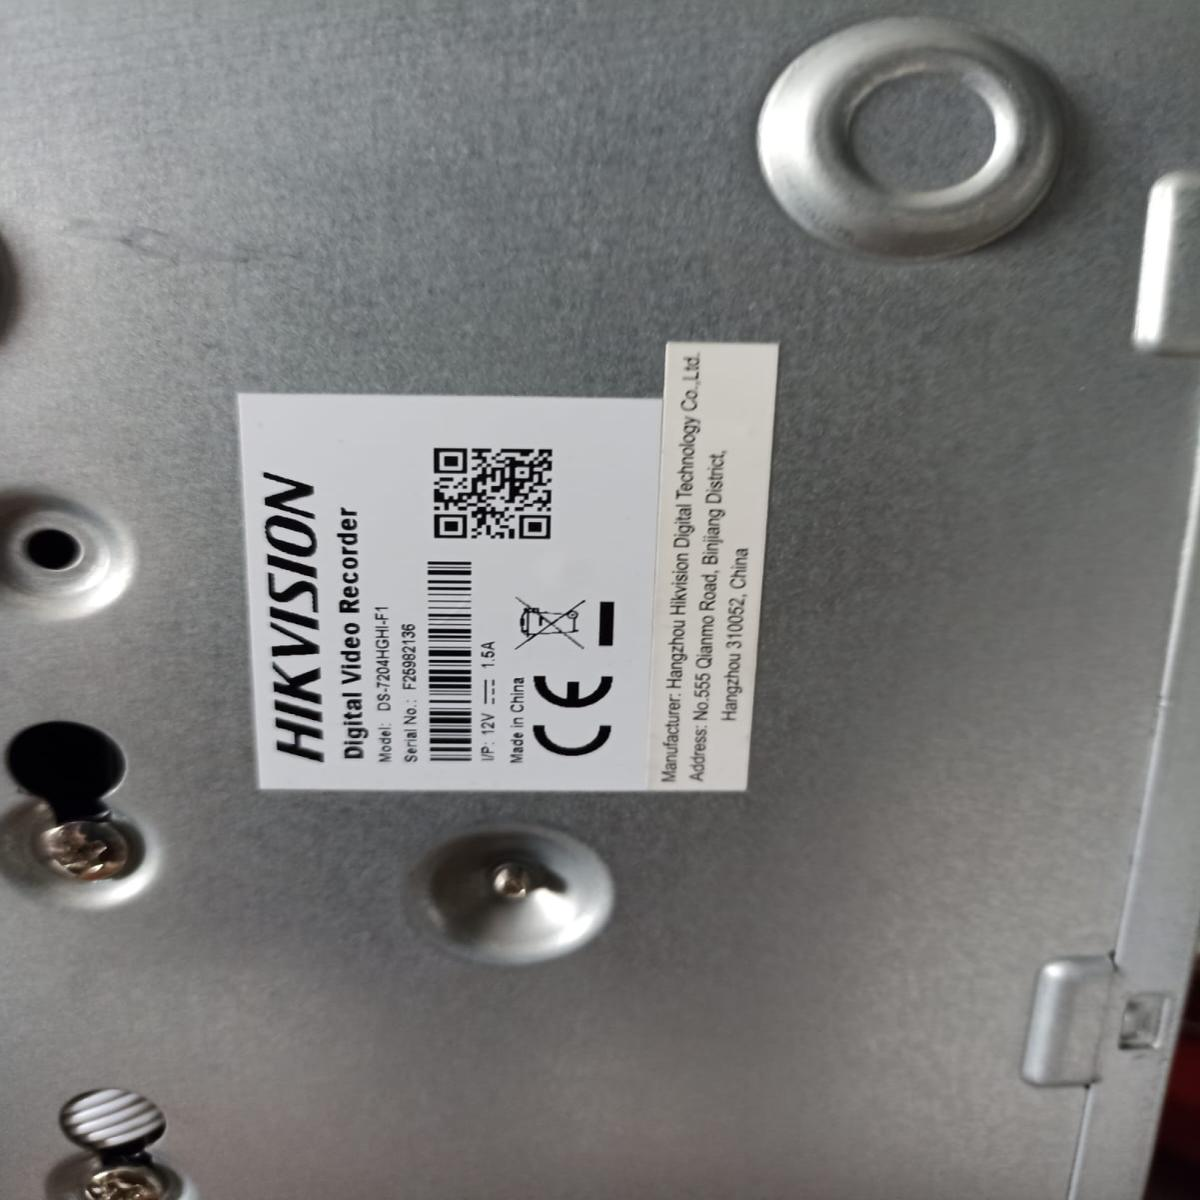Barcode: (421, 556, 476, 766)
Label: (244, 399, 664, 785)
